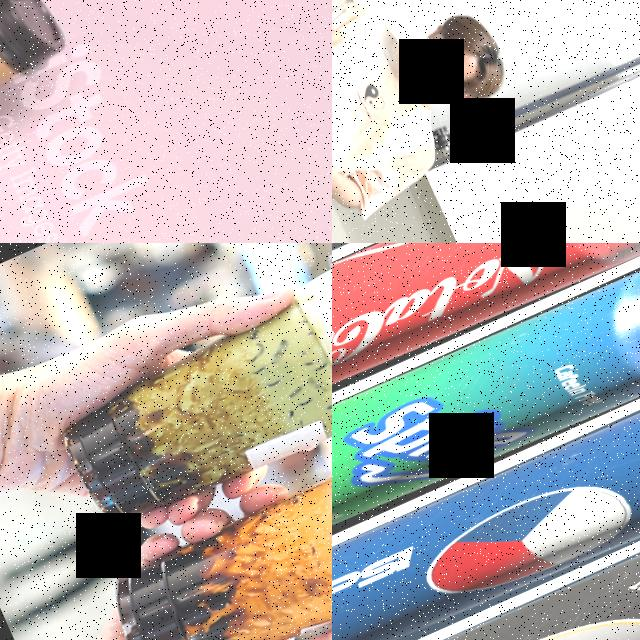can: (332, 243, 640, 590), (332, 338, 640, 640), (332, 243, 640, 470), (332, 456, 640, 640), (332, 243, 640, 350)
cup: (35, 243, 332, 553), (90, 406, 332, 640), (0, 0, 72, 155)
